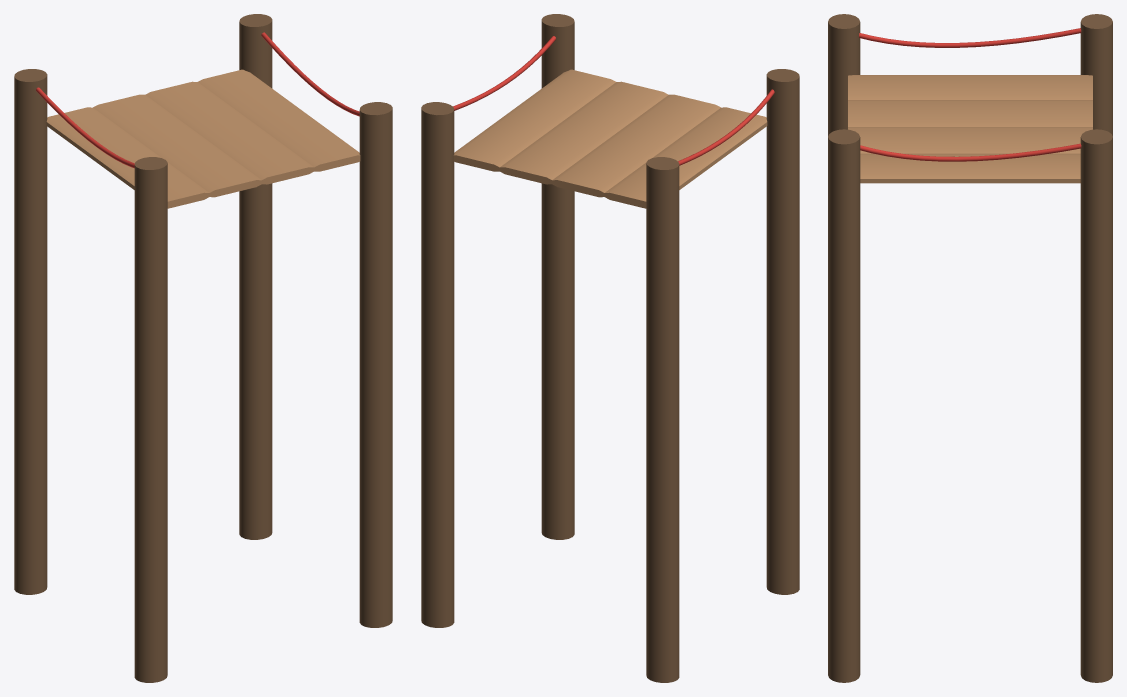
Rendered from Tile_Bridge.fbx.
The picture shows the model from 3 angles, left to right: view 1: azimuth 30°, elevation 25°; view 2: azimuth 150°, elevation 25°; view 3: azimuth 270°, elevation 25°; orthographic projection. The views are drawn at different scales.
Visible parts, largest first — view 1: Tile_Bridge; view 2: Tile_Bridge; view 3: Tile_Bridge.
Boxes of the visible parts, <box> form: Tile_Bridge: <box>14,14,392,682</box>; Tile_Bridge: <box>421,14,799,682</box>; Tile_Bridge: <box>828,14,1112,682</box>.
Size of the model in its own units: 6.15 by 11.84 by 5.67.
